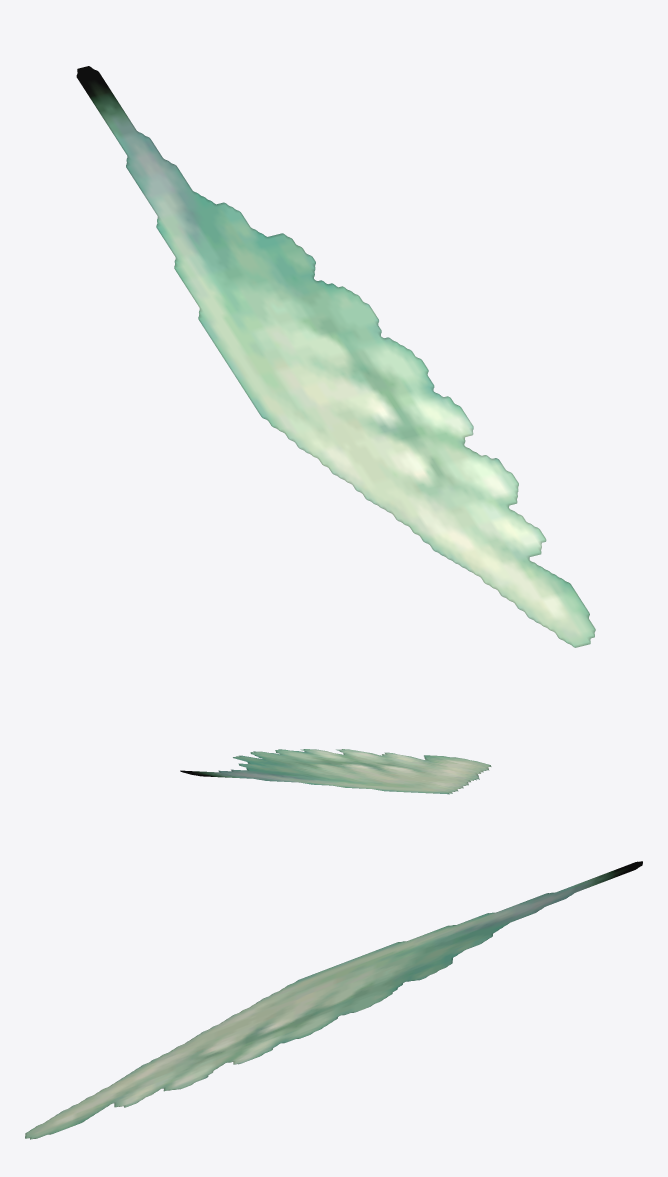
Rendered from rc_hane.glb.
3 views of the same model, one above another, from view 1: azimuth 30°, elevation 25°; view 2: azimuth 150°, elevation 25°; view 3: azimuth 270°, elevation 25° (orthographic). The views are drawn at different scales.
Parts seen in each view (by area): view 1: rc_hane; view 2: rc_hane; view 3: rc_hane.
Boxes of the visible parts, box(x1,y1,x2,y2) form: rc_hane: box(76, 66, 595, 647); rc_hane: box(180, 749, 491, 794); rc_hane: box(25, 861, 642, 1139).
Size of the model in its own units: 39.19 by 49.67 by 116.
Materials: 1 (1 with a texture image).
